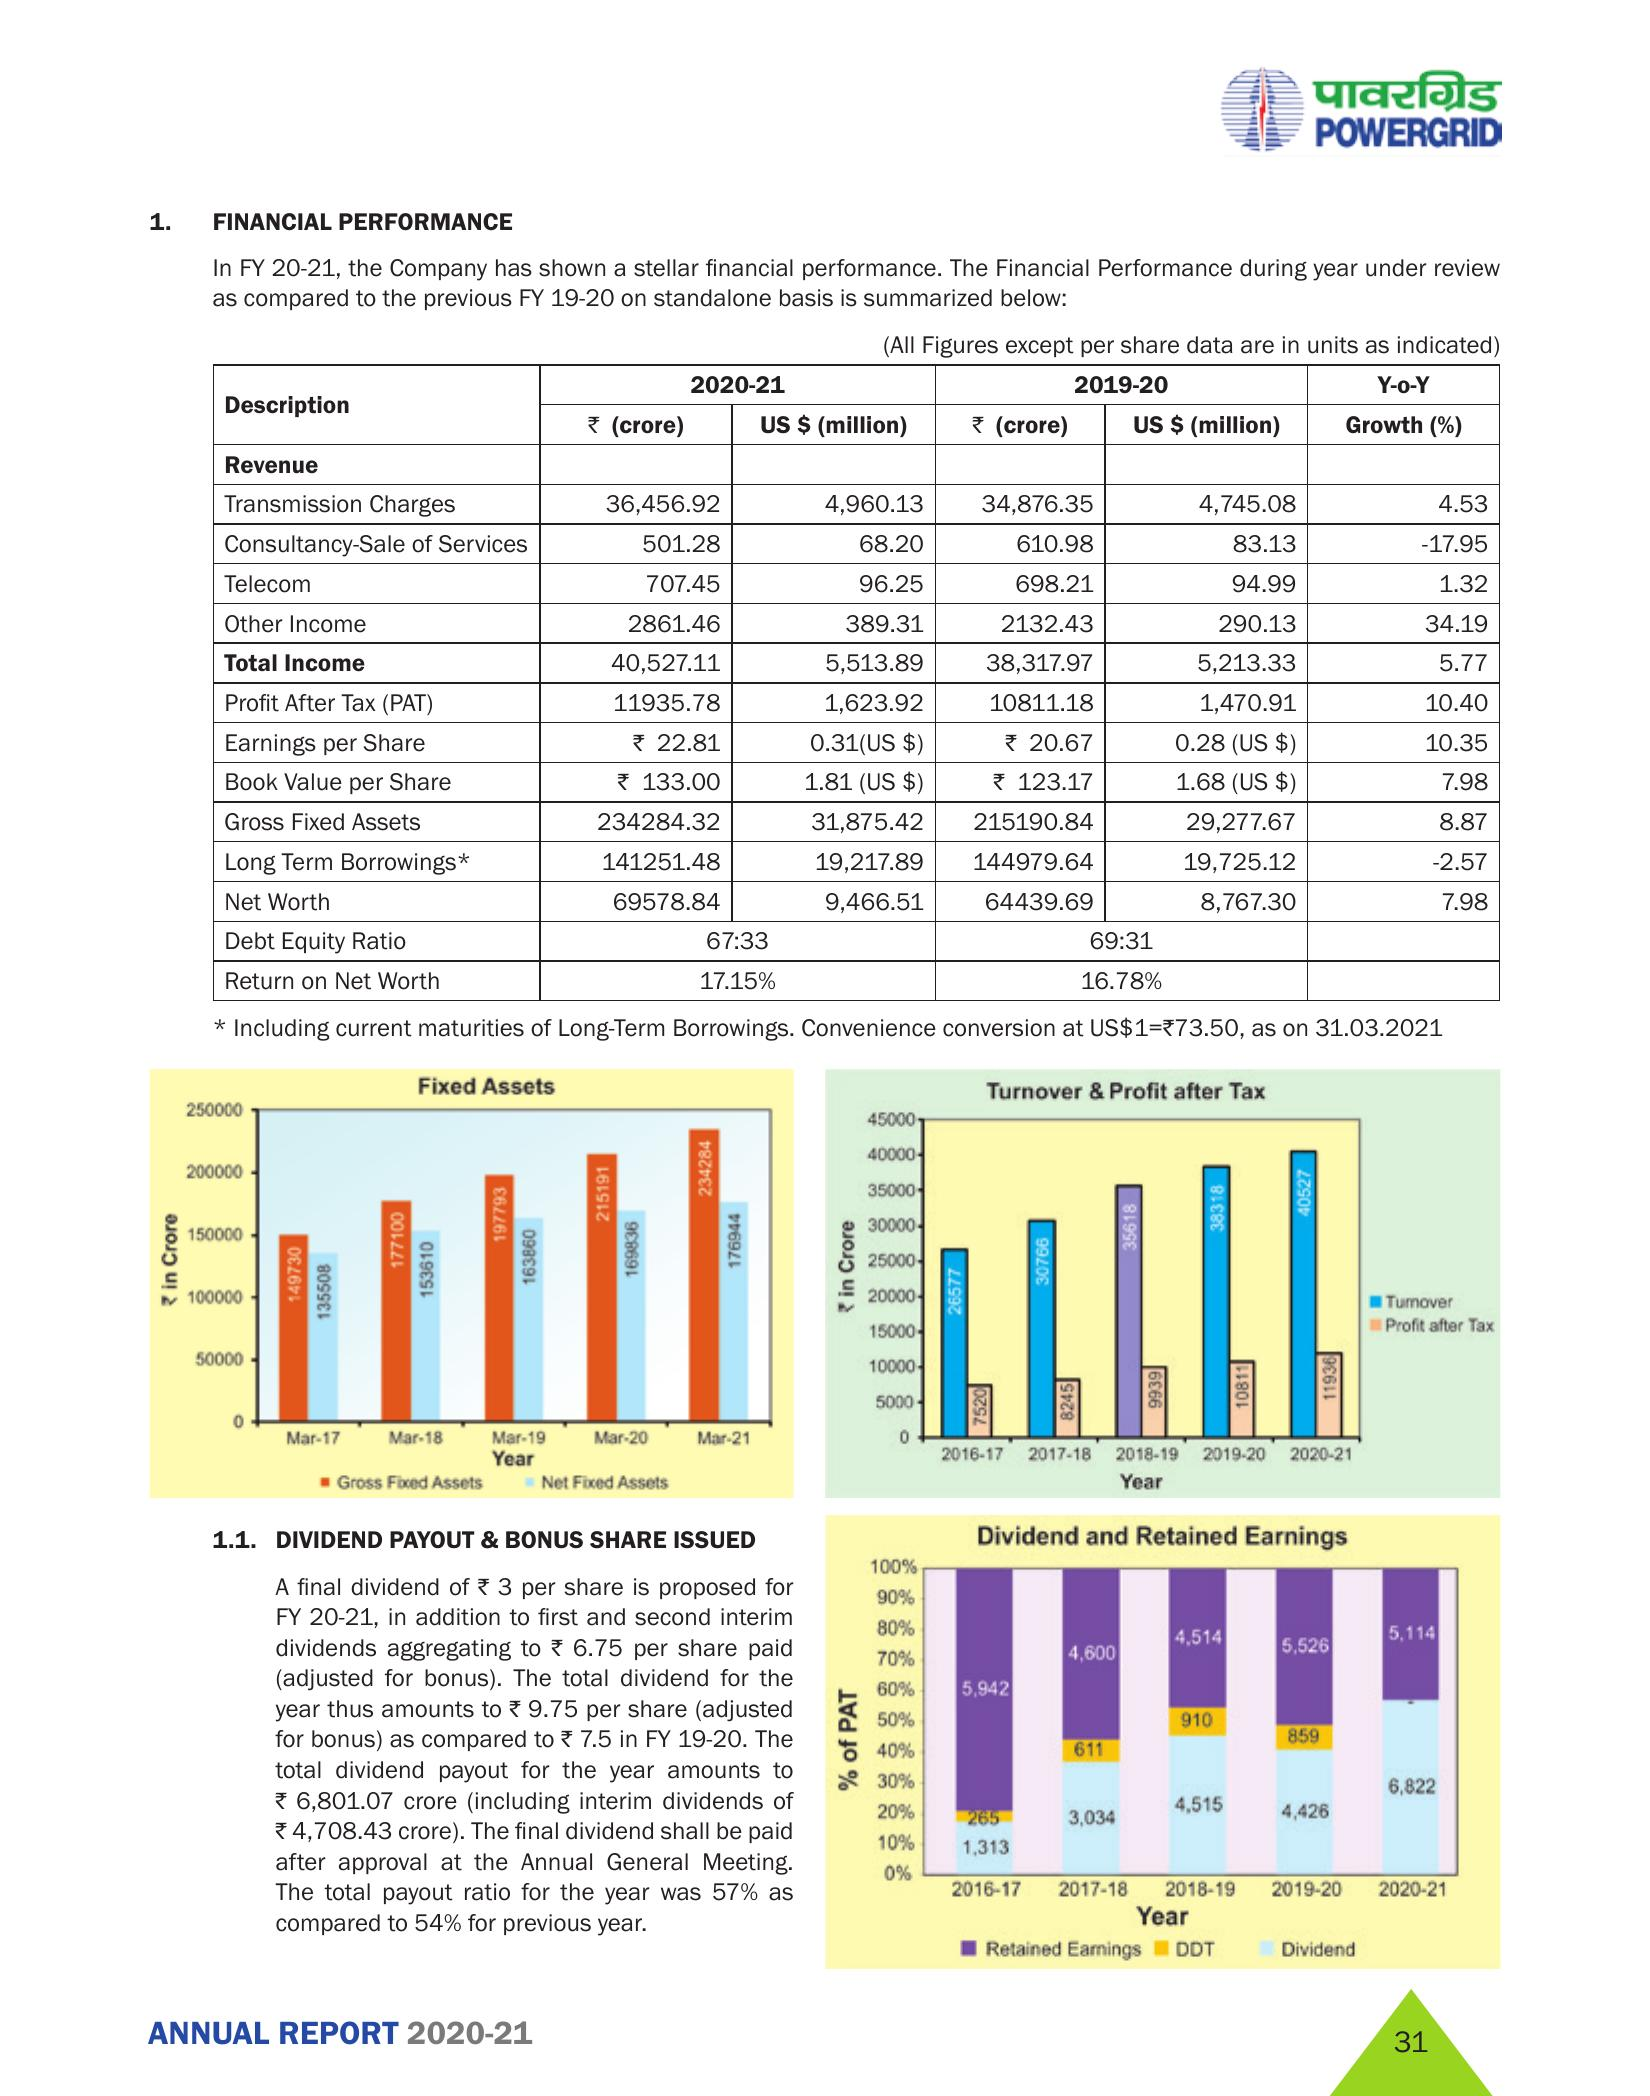Footer: (0, 1974, 1650, 2096)
Header: (0, 0, 1650, 168)
Image: (810, 1516, 1504, 1962), (816, 1070, 1507, 1495), (134, 1058, 776, 1507)
Table: (189, 320, 1551, 1005)
